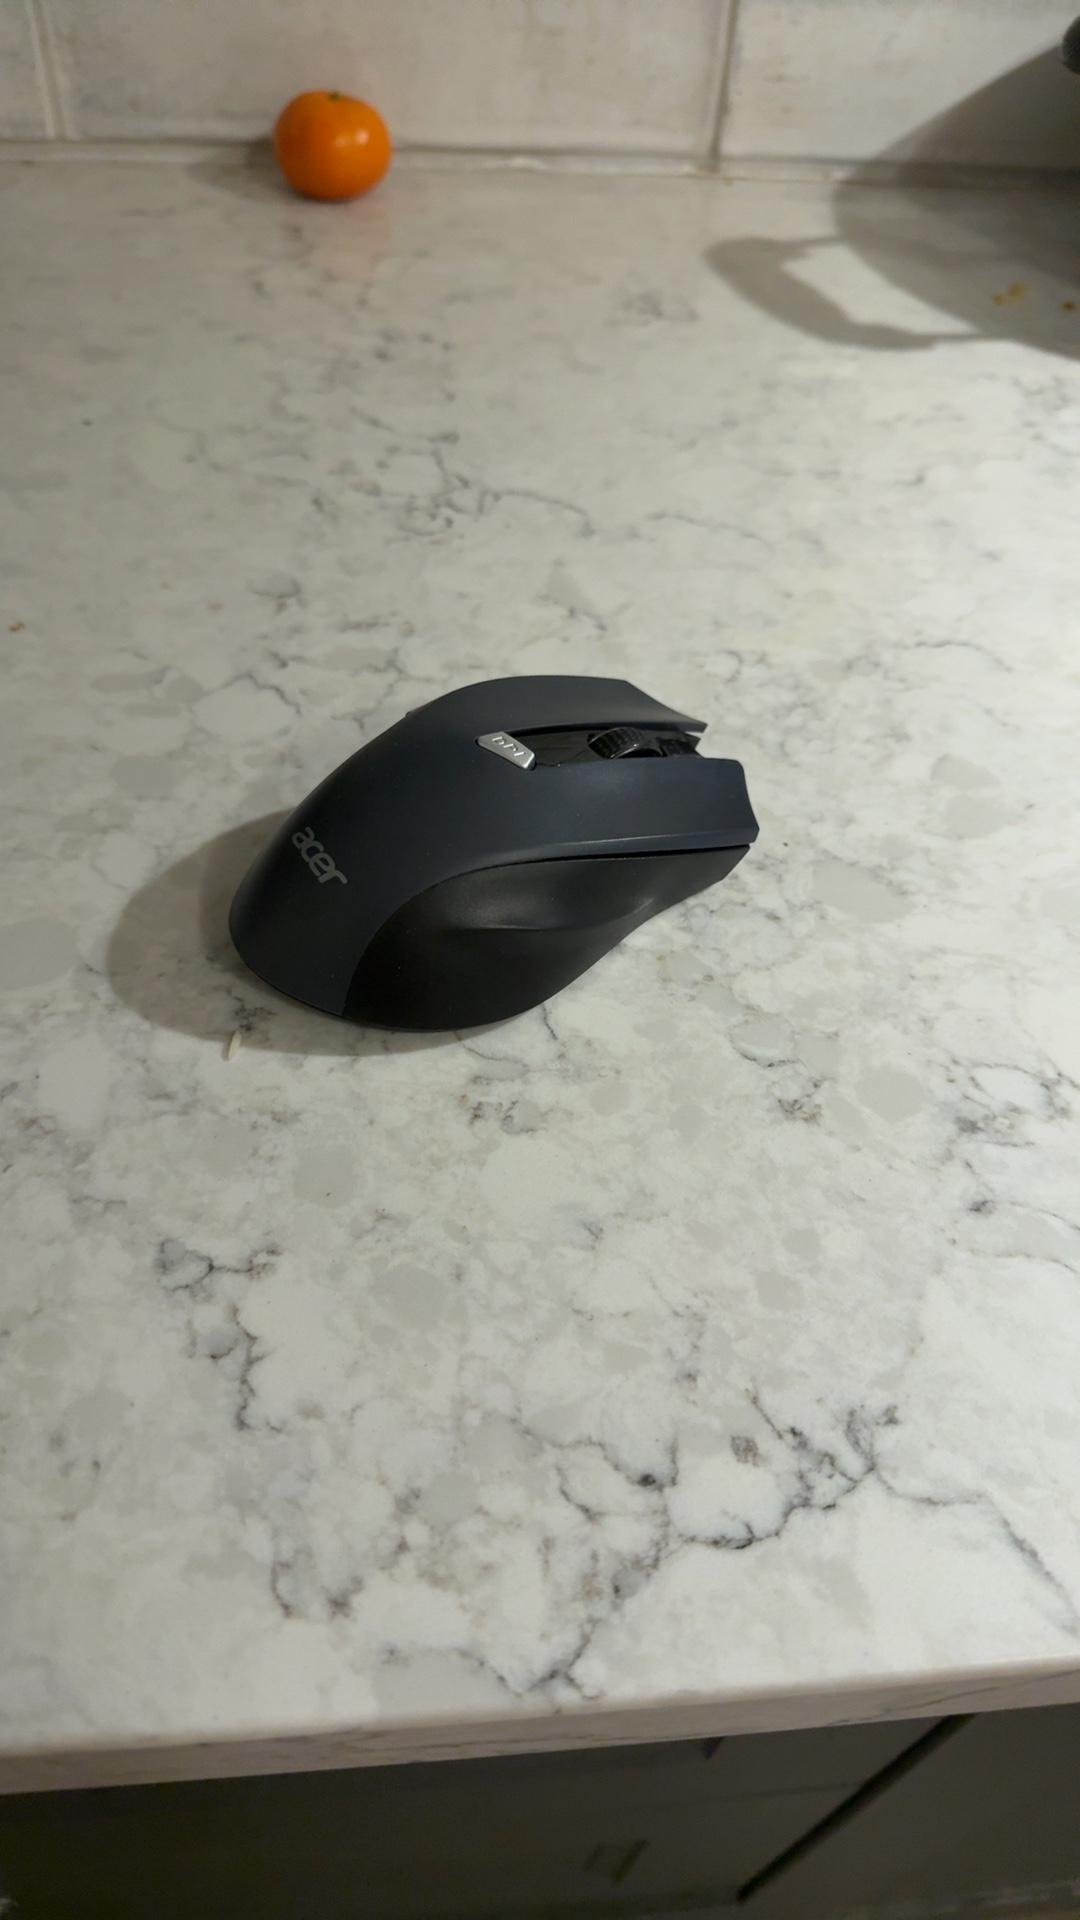Mouse: (195, 637, 835, 1022)
